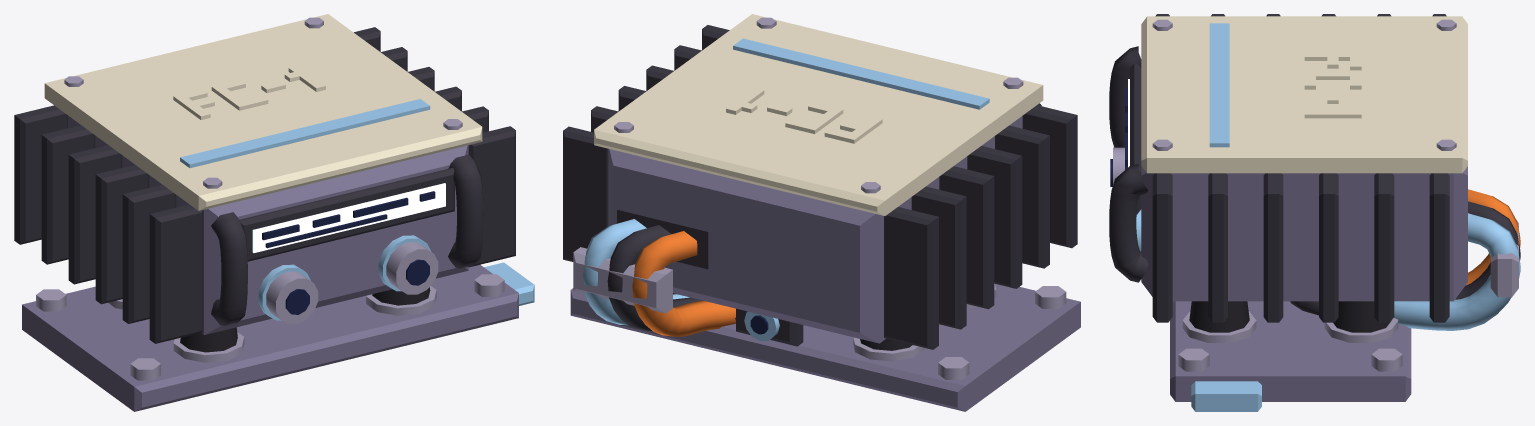
Rendered from flight_computer.glb.
3 views of the same model, side by side, from view 1: azimuth 30°, elevation 25°; view 2: azimuth 150°, elevation 25°; view 3: azimuth 270°, elevation 25° (orthographic). The views are drawn at different scales.
Parts seen in each view (by area): view 1: chassis_creamHull, chassis_graphite, plate_purpleGrey, chassis_purpleGrey, chassis_paleBlue, chassis_purpleGreyLight, chassis_emissive, chassis_navy, mount_purpleGreyLight_mesh, plate_purpleGreyLight, mount_rubber_mesh, plate_paleBlue; view 2: chassis_creamHull, chassis_graphite, chassis_purpleGrey, plate_purpleGrey, mount_orange_mesh, mount_purpleGreyLight_mesh, chassis_paleBlue, mount_graphite_mesh, mount_paleBlue_mesh, plate_purpleGreyLight, chassis_purpleGreyLight; view 3: chassis_creamHull, chassis_purpleGrey, chassis_graphite, plate_purpleGrey, mount_paleBlue_mesh, mount_purpleGreyLight_mesh, chassis_paleBlue, mount_rubber_mesh, plate_paleBlue, mount_graphite_mesh, plate_purpleGreyLight, chassis_purpleGreyLight (+1 smaller).
Boxes of the visible parts, left/top/right/bottom form: chassis_creamHull: left=44, top=14, right=482, bottom=210; chassis_graphite: left=14, top=27, right=515, bottom=343; plate_purpleGrey: left=22, top=264, right=518, bottom=411; chassis_purpleGrey: left=68, top=115, right=468, bottom=335; chassis_paleBlue: left=180, top=99, right=431, bottom=320; chassis_purpleGreyLight: left=64, top=17, right=462, bottom=323; chassis_emissive: left=252, top=183, right=445, bottom=252; chassis_navy: left=262, top=191, right=435, bottom=314; mount_purpleGreyLight_mesh: left=108, top=286, right=436, bottom=362; plate_purpleGreyLight: left=36, top=274, right=504, bottom=380; mount_rubber_mesh: left=180, top=287, right=430, bottom=352; plate_paleBlue: left=484, top=262, right=534, bottom=305; chassis_creamHull: left=594, top=14, right=1043, bottom=215; chassis_graphite: left=563, top=25, right=1077, bottom=349; chassis_purpleGrey: left=608, top=116, right=1022, bottom=343; plate_purpleGrey: left=570, top=284, right=1080, bottom=411; mount_orange_mesh: left=632, top=231, right=735, bottom=336; mount_purpleGreyLight_mesh: left=573, top=247, right=996, bottom=361; chassis_paleBlue: left=733, top=38, right=989, bottom=109; mount_graphite_mesh: left=607, top=225, right=803, bottom=346; mount_paleBlue_mesh: left=583, top=219, right=779, bottom=340; plate_purpleGreyLight: left=938, top=286, right=1066, bottom=379; chassis_purpleGreyLight: left=614, top=17, right=1023, bottom=193; chassis_creamHull: left=1141, top=16, right=1467, bottom=173; chassis_purpleGrey: left=1141, top=166, right=1467, bottom=301; chassis_graphite: left=1109, top=14, right=1449, bottom=322; plate_purpleGrey: left=1170, top=301, right=1411, bottom=401; mount_paleBlue_mesh: left=1393, top=213, right=1520, bottom=330; mount_purpleGreyLight_mesh: left=1182, top=221, right=1518, bottom=342; chassis_paleBlue: left=1136, top=23, right=1229, bottom=251; mount_rubber_mesh: left=1189, top=301, right=1390, bottom=332; plate_paleBlue: left=1191, top=381, right=1261, bottom=411; mount_graphite_mesh: left=1290, top=201, right=1520, bottom=315; plate_purpleGreyLight: left=1178, top=348, right=1402, bottom=371; chassis_purpleGreyLight: left=1113, top=19, right=1456, bottom=184.
Size of the model in its own units: 0.341 by 0.173 by 0.29.
